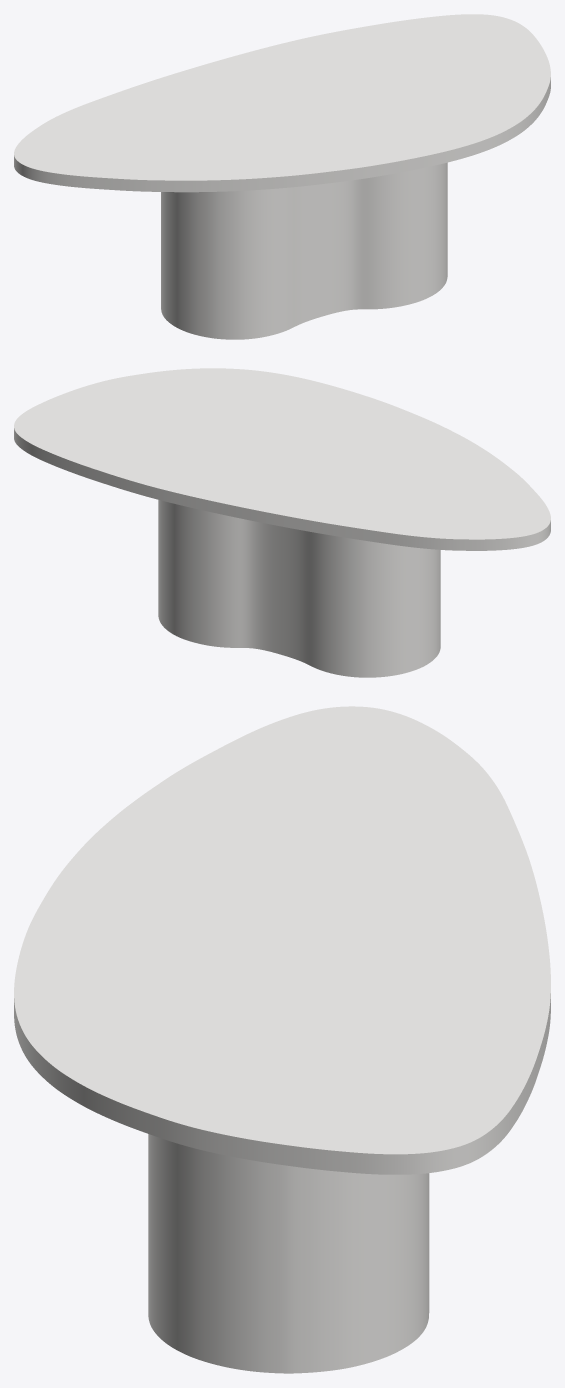
Rendered from purewhite_pebbletop_standard_riverwave.glb.
3 renders of one model, top to bottom at view 1: azimuth 30°, elevation 25°; view 2: azimuth 150°, elevation 25°; view 3: azimuth 270°, elevation 25°, orthographic. The views are drawn at different scales.
Visible parts, largest first — view 1: standard_pebbletop, riverwave; view 2: standard_pebbletop, riverwave; view 3: standard_pebbletop, riverwave.
Boxes of the visible parts, x1,y1,x2,y2 form: standard_pebbletop: (14, 14, 550, 192); riverwave: (161, 162, 447, 339); standard_pebbletop: (14, 368, 550, 550); riverwave: (158, 500, 440, 677); standard_pebbletop: (14, 706, 550, 1174); riverwave: (148, 1134, 429, 1373).
Size of the model in its own units: 7.5 by 2.51 by 3.8.
Materials: 1 (1 with a texture image).
